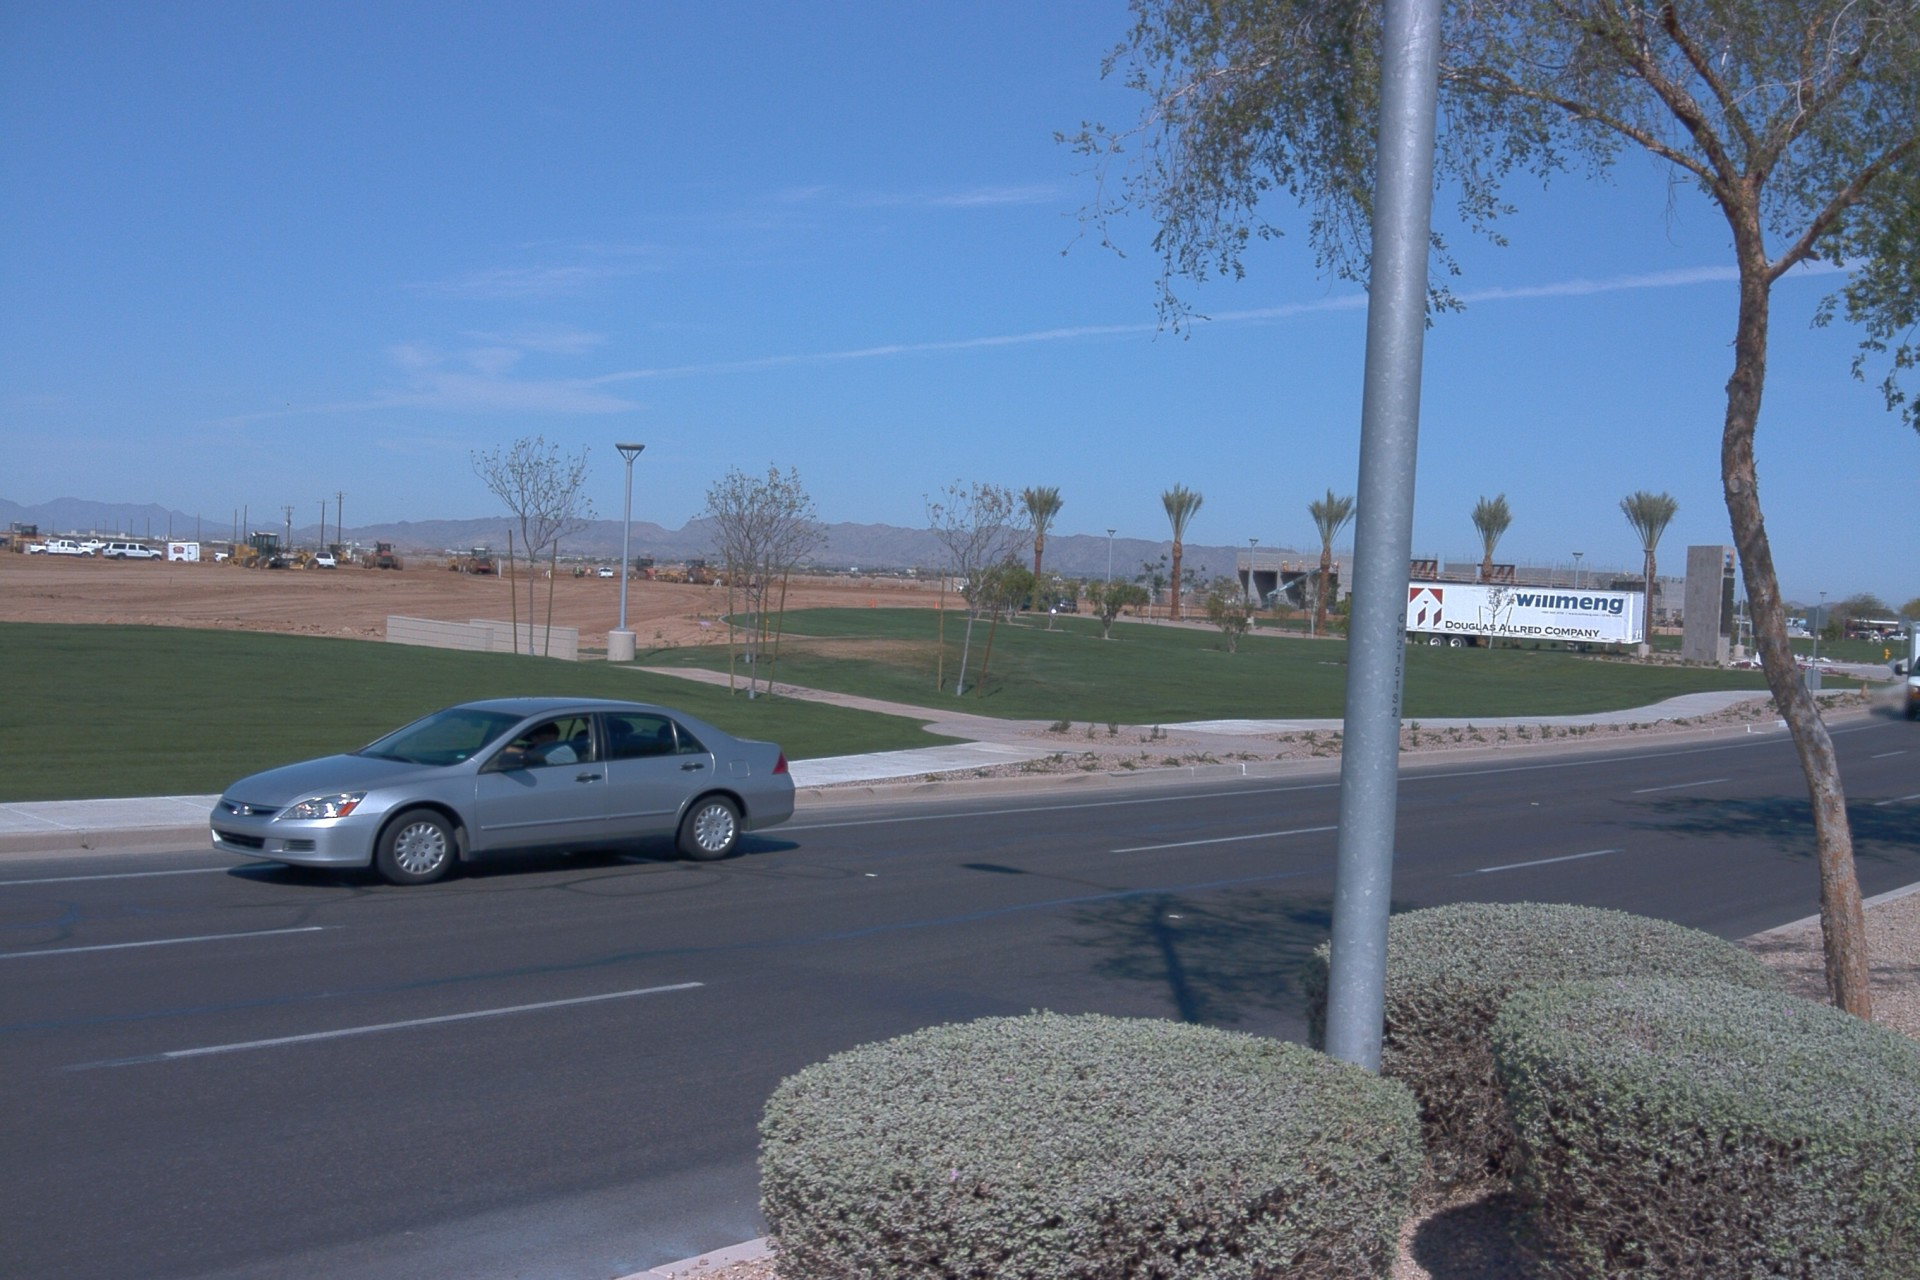TYPE_PEDESTRIAN: (585, 567, 593, 580), (573, 567, 581, 580)
TYPE_VEHICLE: (209, 696, 798, 888), (1403, 581, 1652, 655), (210, 524, 321, 569), (1265, 557, 1339, 607), (1891, 622, 1920, 724), (446, 548, 502, 578), (1005, 588, 1077, 609), (360, 540, 405, 572), (29, 537, 96, 558), (96, 537, 159, 556), (957, 573, 997, 593), (166, 543, 202, 563), (329, 544, 353, 565), (77, 538, 110, 552), (314, 556, 335, 573), (212, 549, 230, 563), (599, 568, 617, 582), (0, 536, 11, 549), (44, 541, 61, 546)
